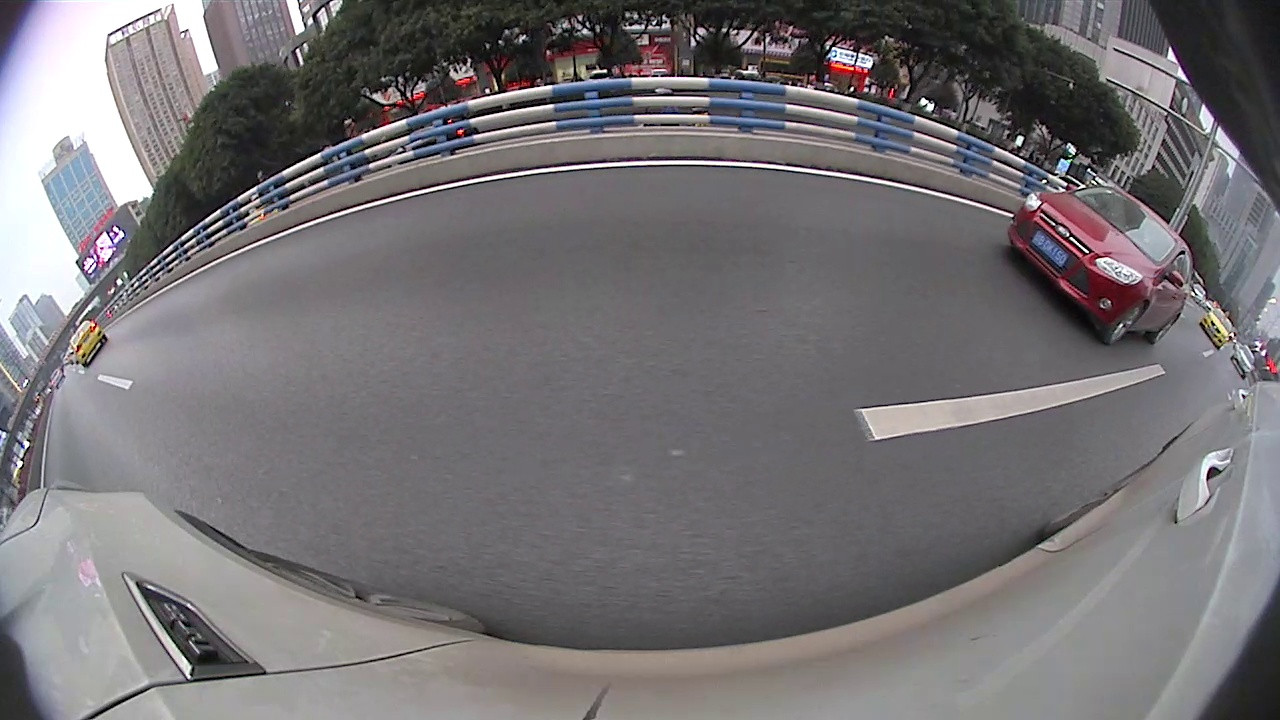car: (267, 140, 533, 285), (652, 124, 863, 243), (849, 151, 1003, 258), (1165, 309, 1279, 448), (1092, 235, 1211, 330), (986, 193, 1086, 275), (506, 156, 585, 205)
front: (1201, 370, 1261, 449), (1070, 253, 1096, 282), (517, 186, 533, 225), (649, 184, 659, 214)
rear: (415, 208, 457, 274), (689, 187, 712, 241), (879, 201, 907, 245), (1152, 300, 1187, 335), (1000, 232, 1026, 266)
